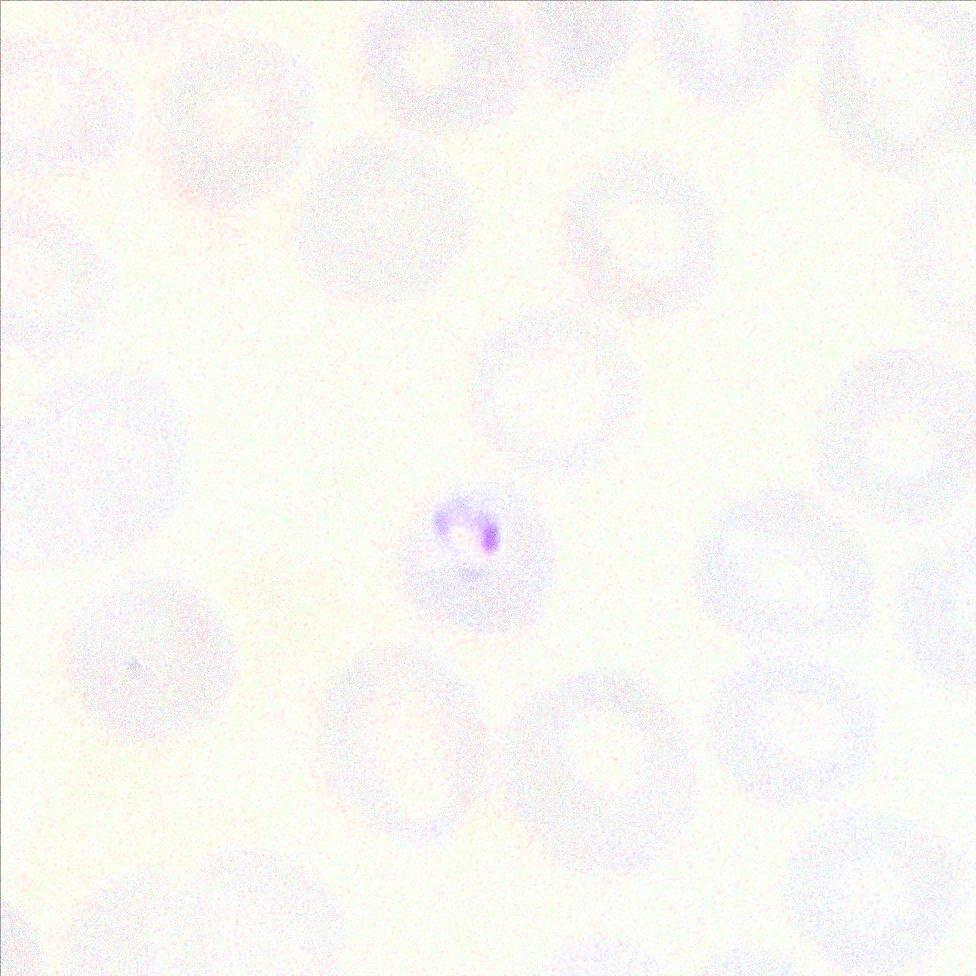Infected: (387, 476, 554, 641)
